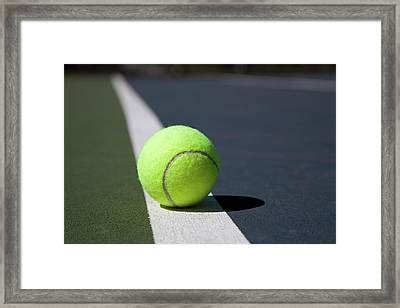tennis_ball: (137, 124, 220, 207)
